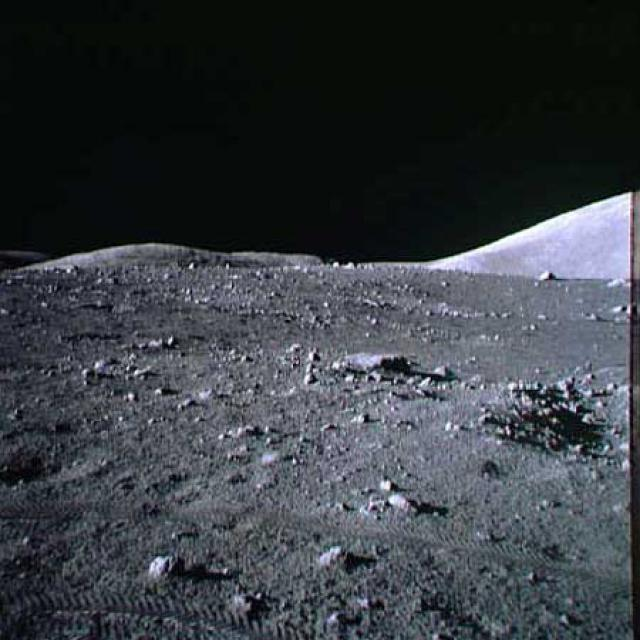crater: (3, 438, 111, 486)
rock: (318, 331, 418, 377), (302, 534, 368, 574), (360, 471, 416, 517), (145, 548, 186, 584), (531, 263, 560, 291), (600, 299, 634, 319), (602, 272, 630, 294)
